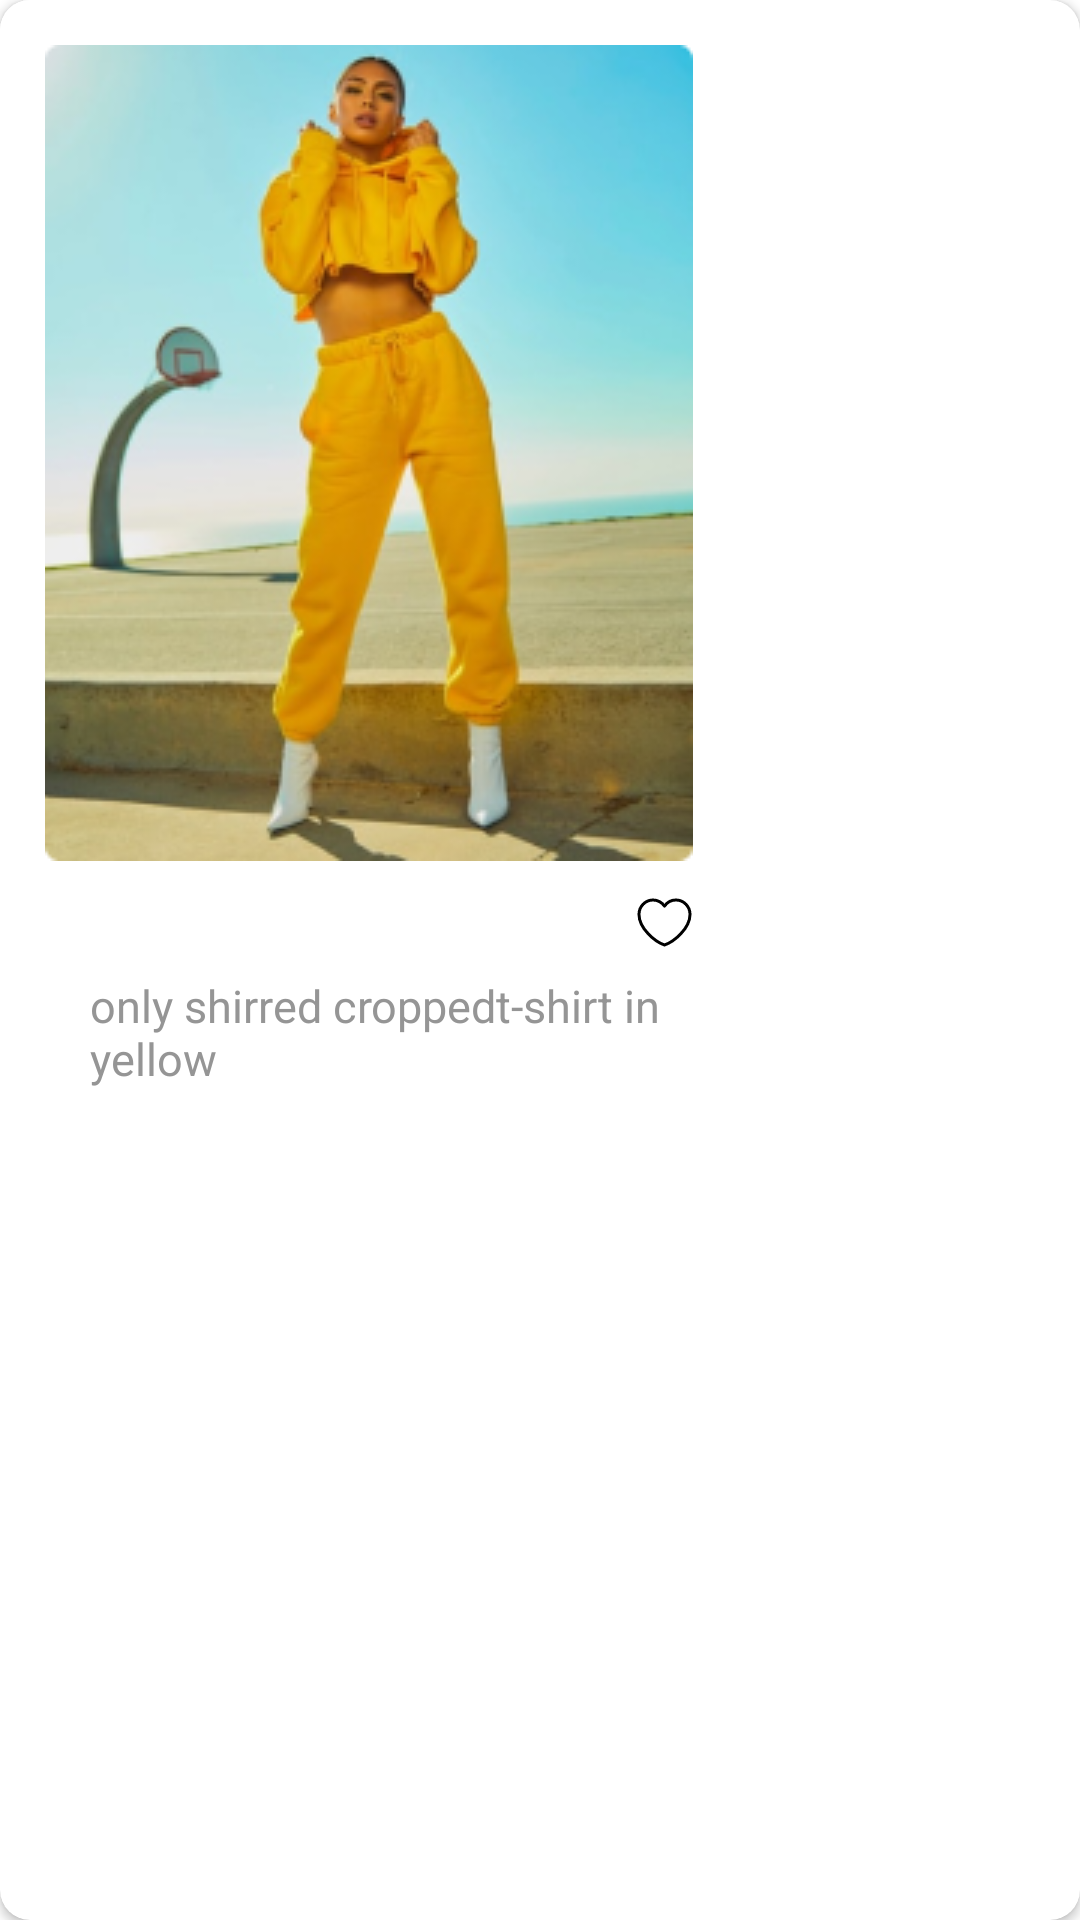

Icon bounding boxes for this 1080px×1920px phone screenshot, format (x1, y1, x2, y2):
heart: (637, 898, 692, 947)
